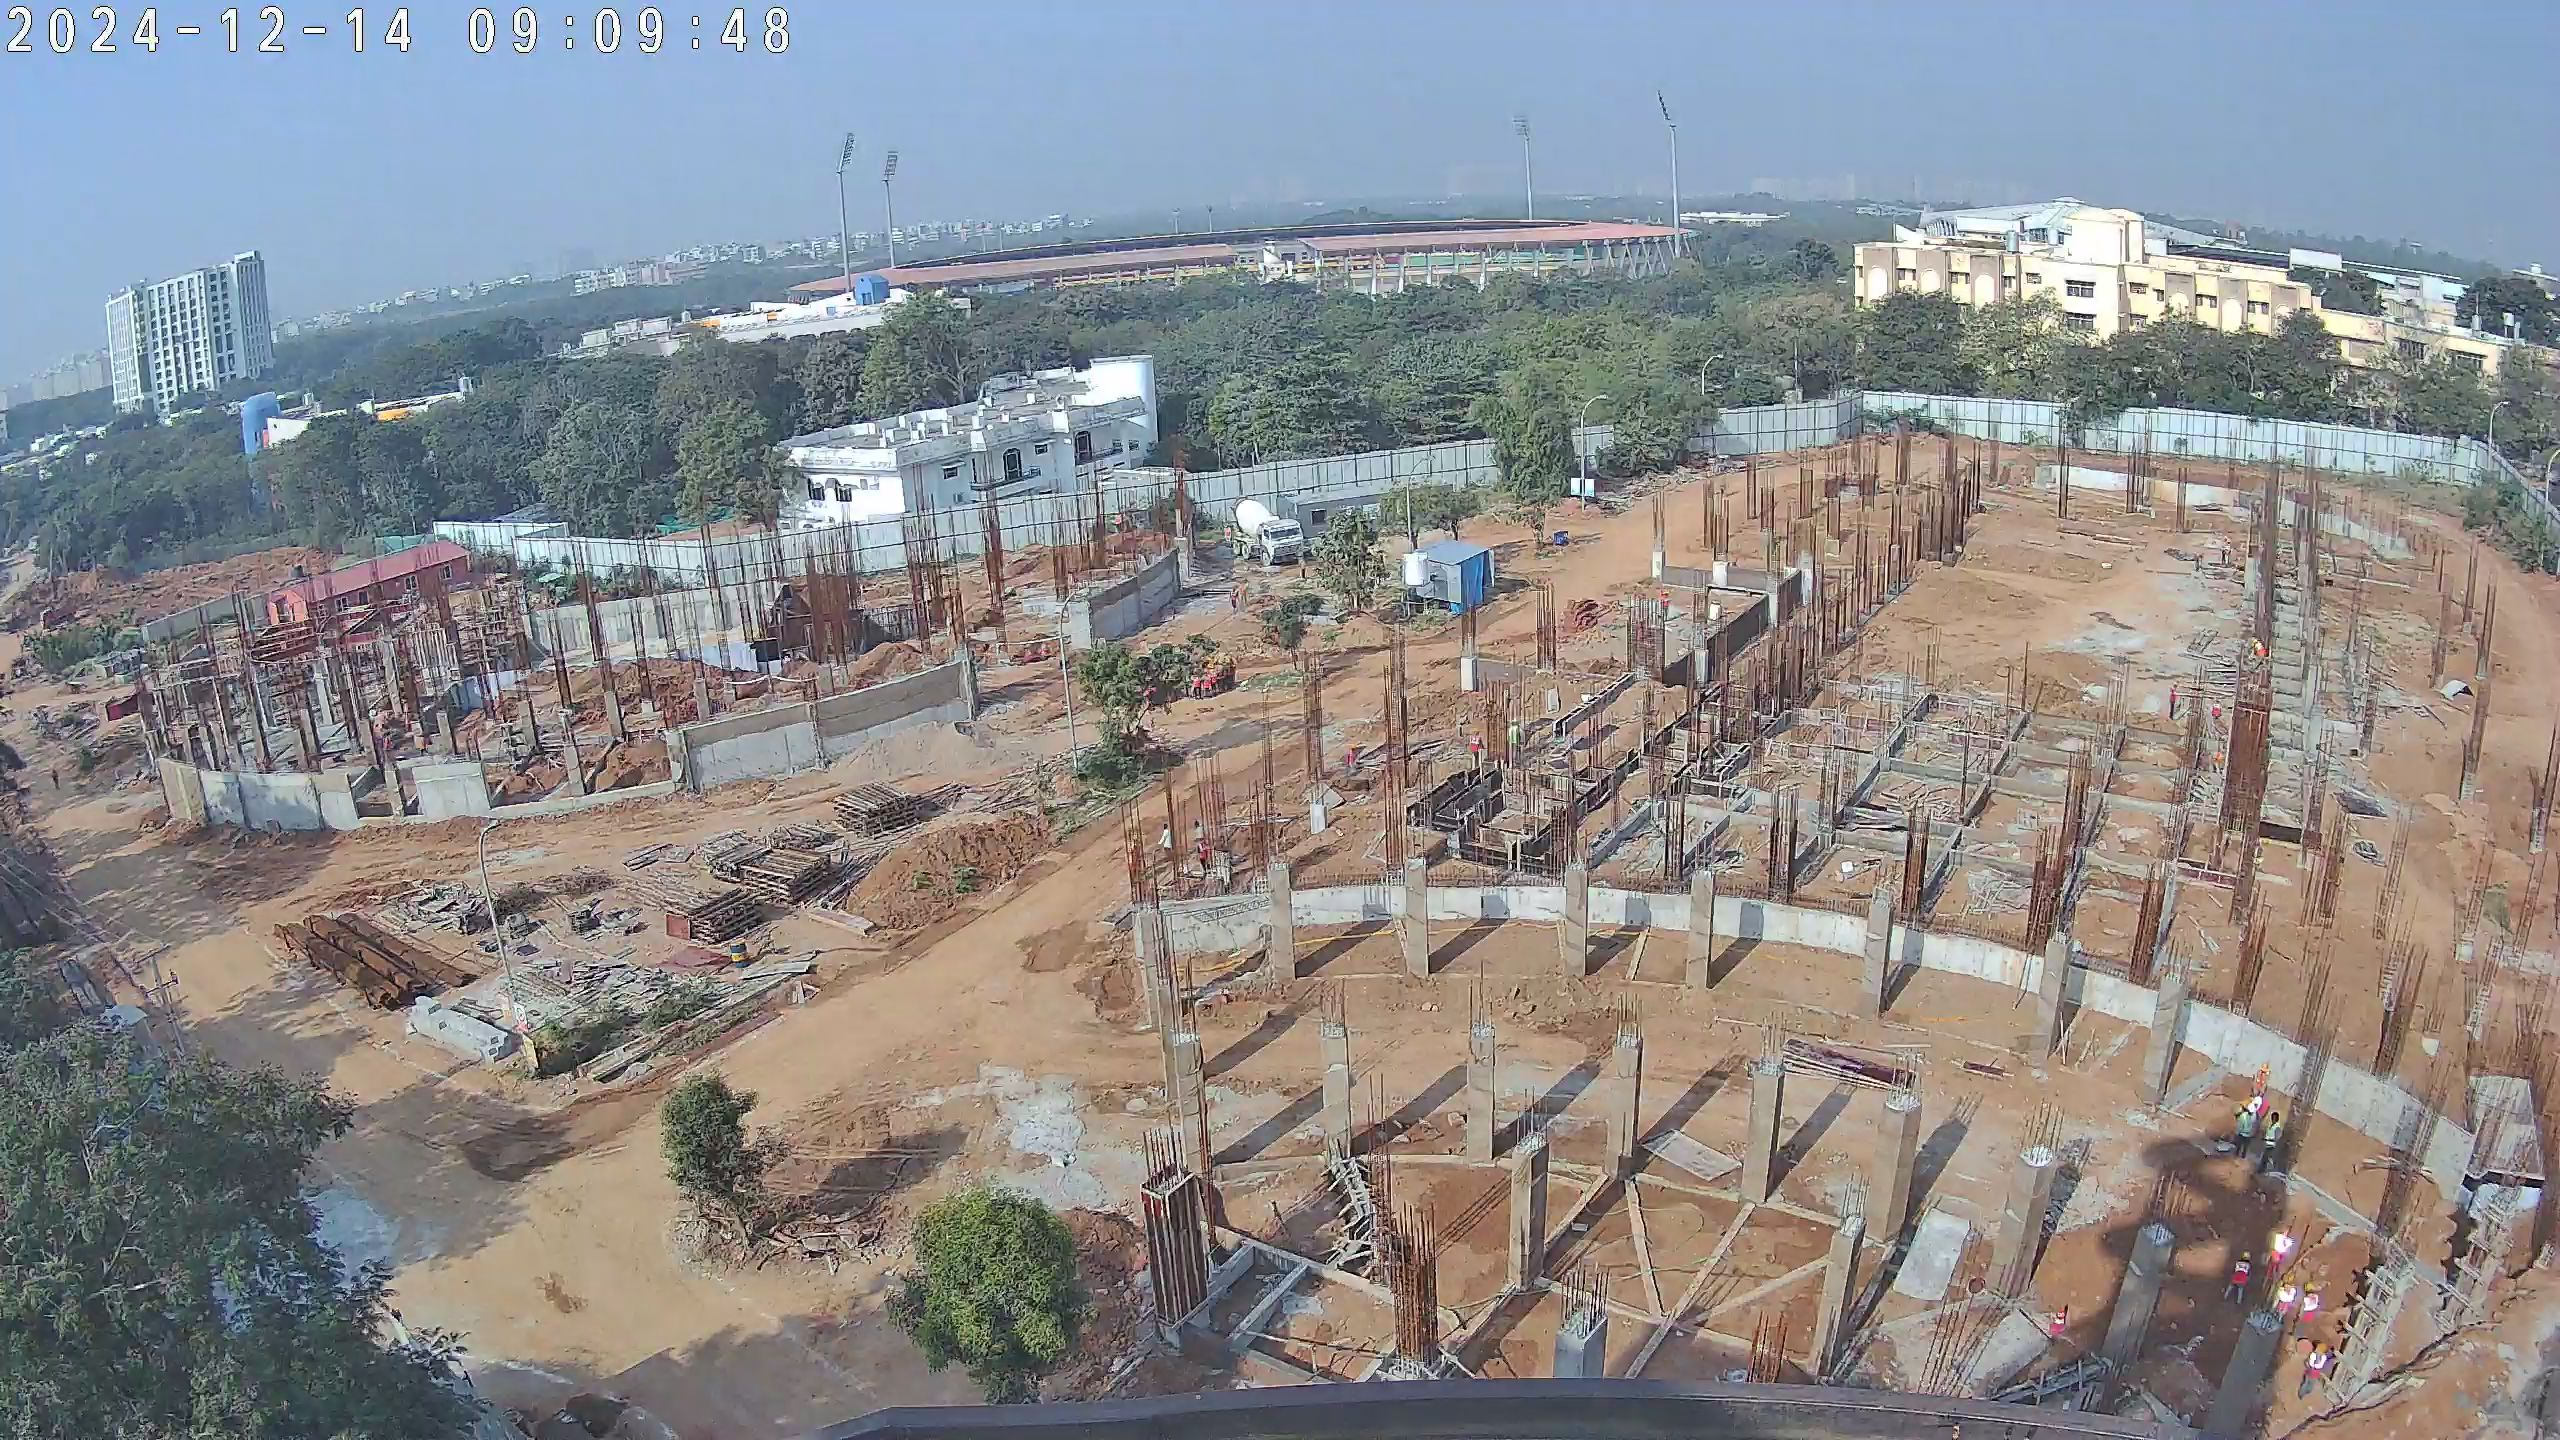truck: (1222, 491, 1304, 574)
worker: (2291, 1279, 2326, 1341), (2294, 1340, 2328, 1401), (2261, 1109, 2286, 1184), (2262, 1233, 2289, 1300), (2233, 1096, 2258, 1163), (1504, 714, 1527, 769), (2224, 1252, 2245, 1308), (1156, 821, 1176, 868), (2167, 673, 2184, 726), (1194, 839, 1214, 884), (2246, 634, 2275, 664), (1466, 728, 1485, 773), (1222, 650, 1241, 692), (1190, 819, 1211, 855), (46, 767, 63, 800), (1657, 588, 1672, 624), (1211, 658, 1226, 694), (1236, 580, 1251, 609), (1205, 666, 1218, 697), (1228, 587, 1240, 616), (1191, 671, 1202, 701), (1202, 667, 1212, 700)
